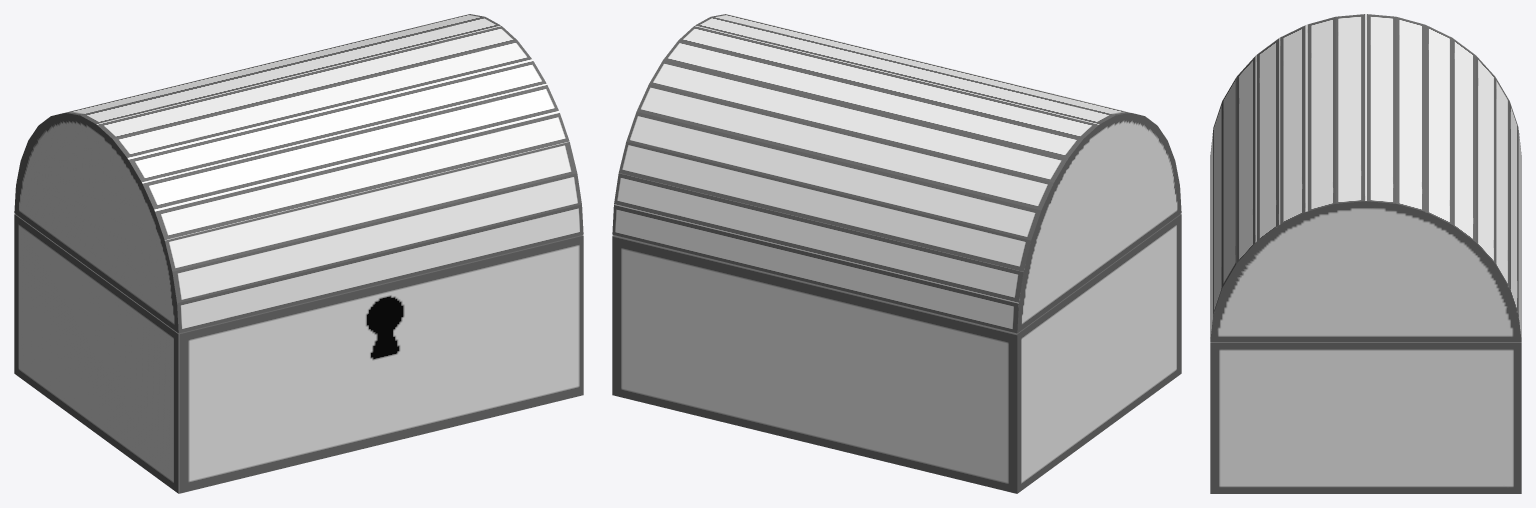
Rendered from Chest.fbx.
3 renders of one model, left to right at view 1: azimuth 30°, elevation 25°; view 2: azimuth 150°, elevation 25°; view 3: azimuth 270°, elevation 25°, orthographic. The views are drawn at different scales.
Parts seen in each view (by area): view 1: 円柱, 立方体; view 2: 円柱, 立方体; view 3: 円柱, 立方体.
Boxes of the visible parts, x1=… form: 円柱: x1=14, y1=14, x2=583, y2=333; 立方体: x1=14, y1=214, x2=583, y2=493; 円柱: x1=612, y1=14, x2=1181, y2=333; 立方体: x1=612, y1=214, x2=1181, y2=493; 円柱: x1=1210, y1=14, x2=1521, y2=341; 立方体: x1=1210, y1=342, x2=1521, y2=493.
Size of the model in its own units: 285 by 208 by 200.
